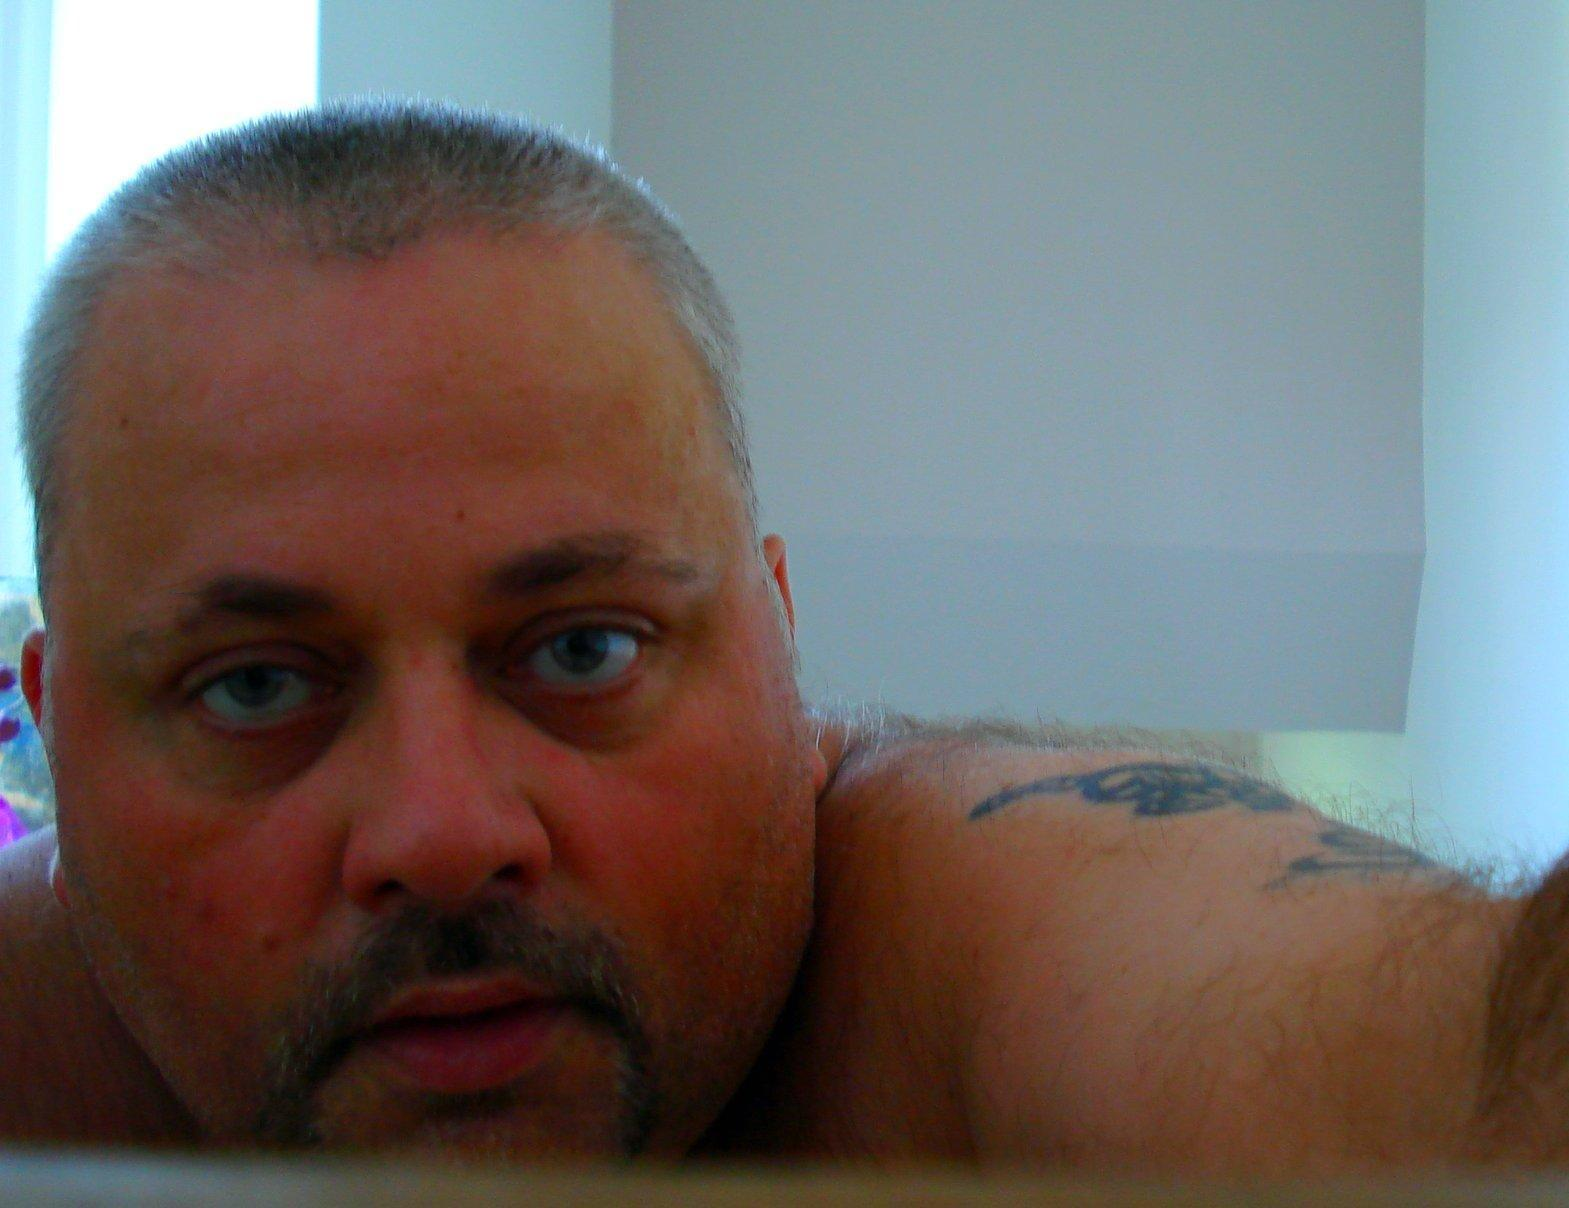Eyebags: (497, 648, 675, 747), (175, 708, 342, 791)
